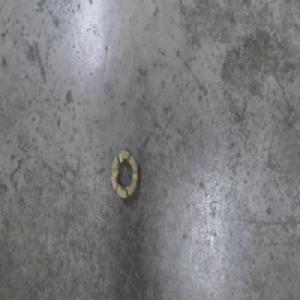Nut: (109, 147, 140, 203)
